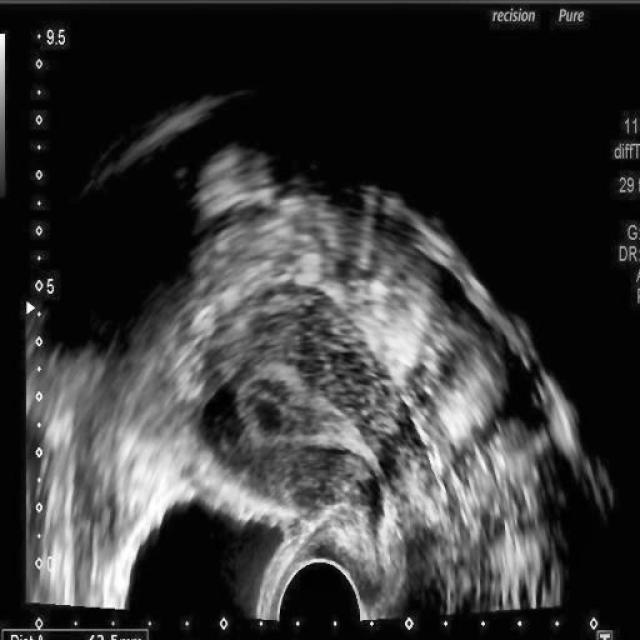non-viable embryo: (24, 89, 615, 625)
